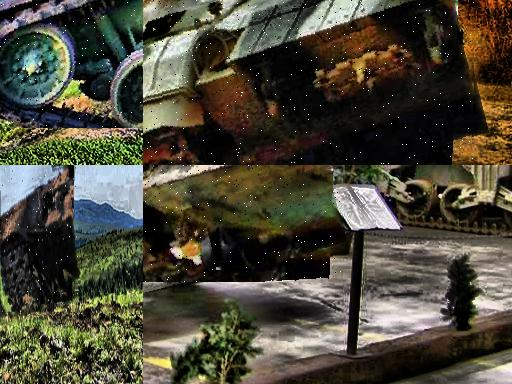tanks: (144, 1, 475, 166), (144, 166, 343, 283), (1, 1, 144, 129), (1, 167, 78, 313), (384, 166, 512, 237)
